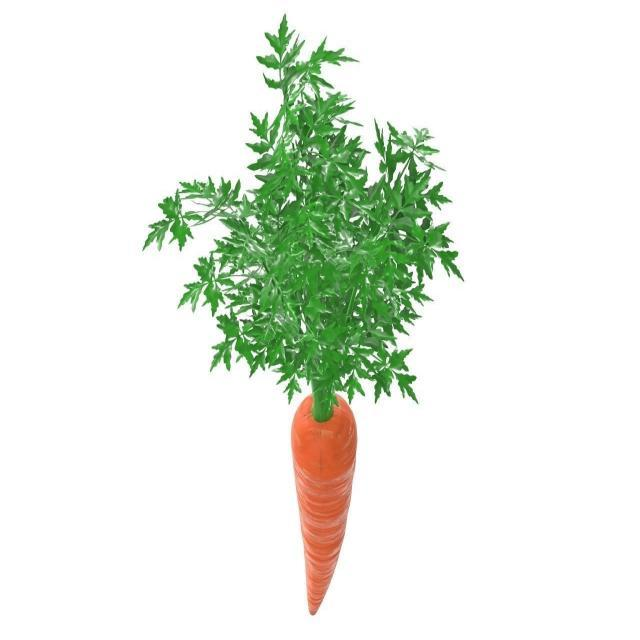carrot: (293, 390, 358, 624)
